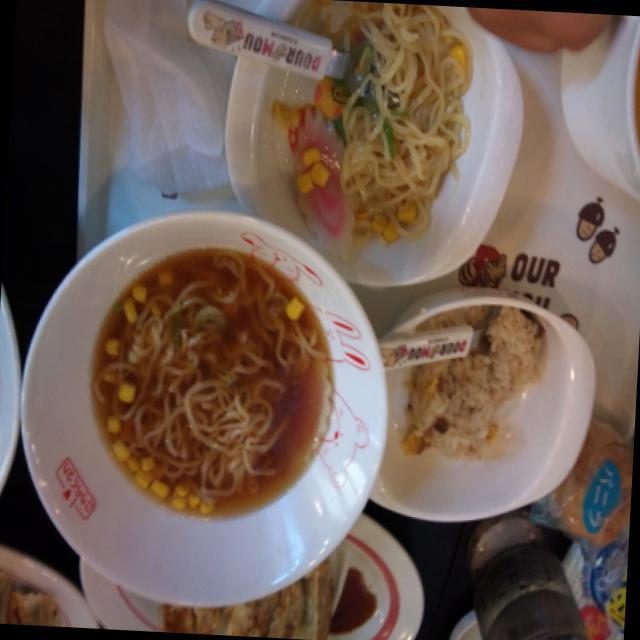Pasta: (334, 8, 479, 246)
